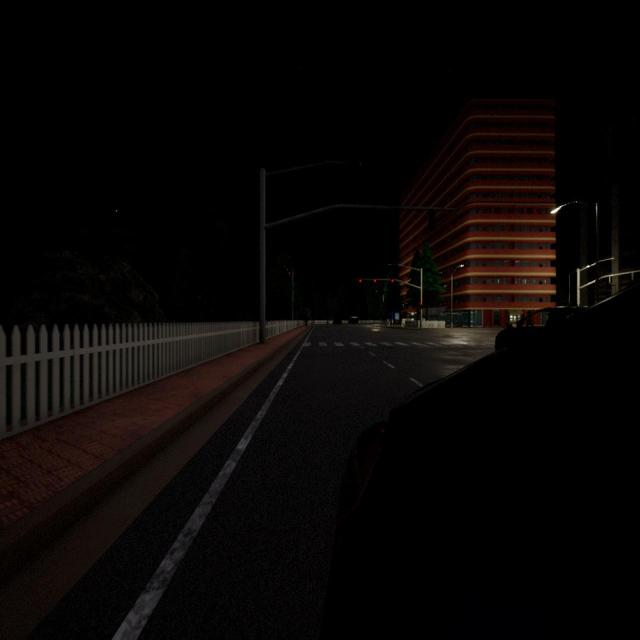Vehicle: (322, 286, 640, 640), (494, 304, 588, 358)
traffic_light: (359, 278, 362, 283), (420, 302, 422, 309), (392, 279, 394, 283), (374, 279, 376, 282), (289, 272, 290, 274)
